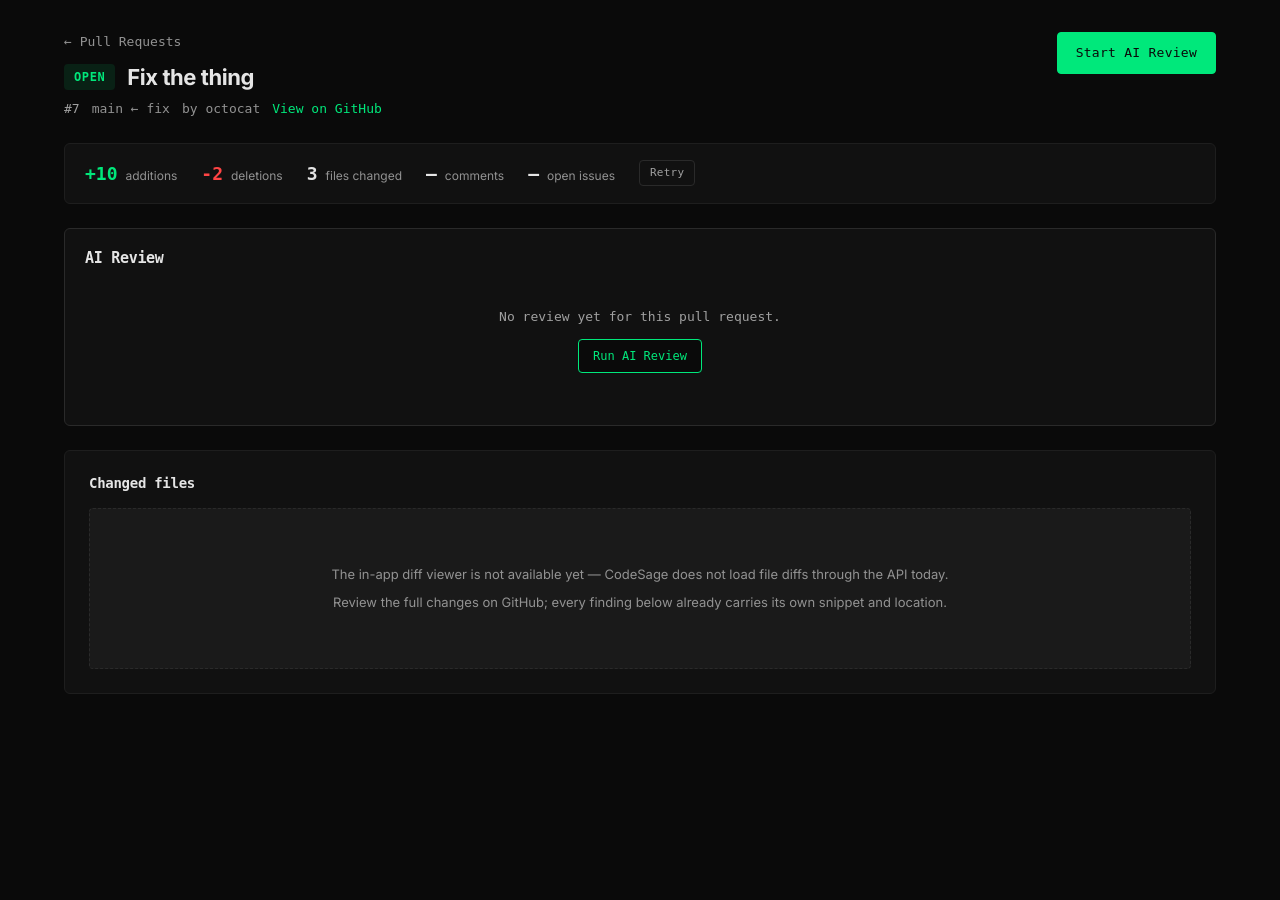
PrDetailComponent — load error state (F3 pre-check b) › a failed review request keeps the PR page; tiles show — + retry (never 0)
Click the button with test id "stats-retry": (667, 173) [639,160,695,186]
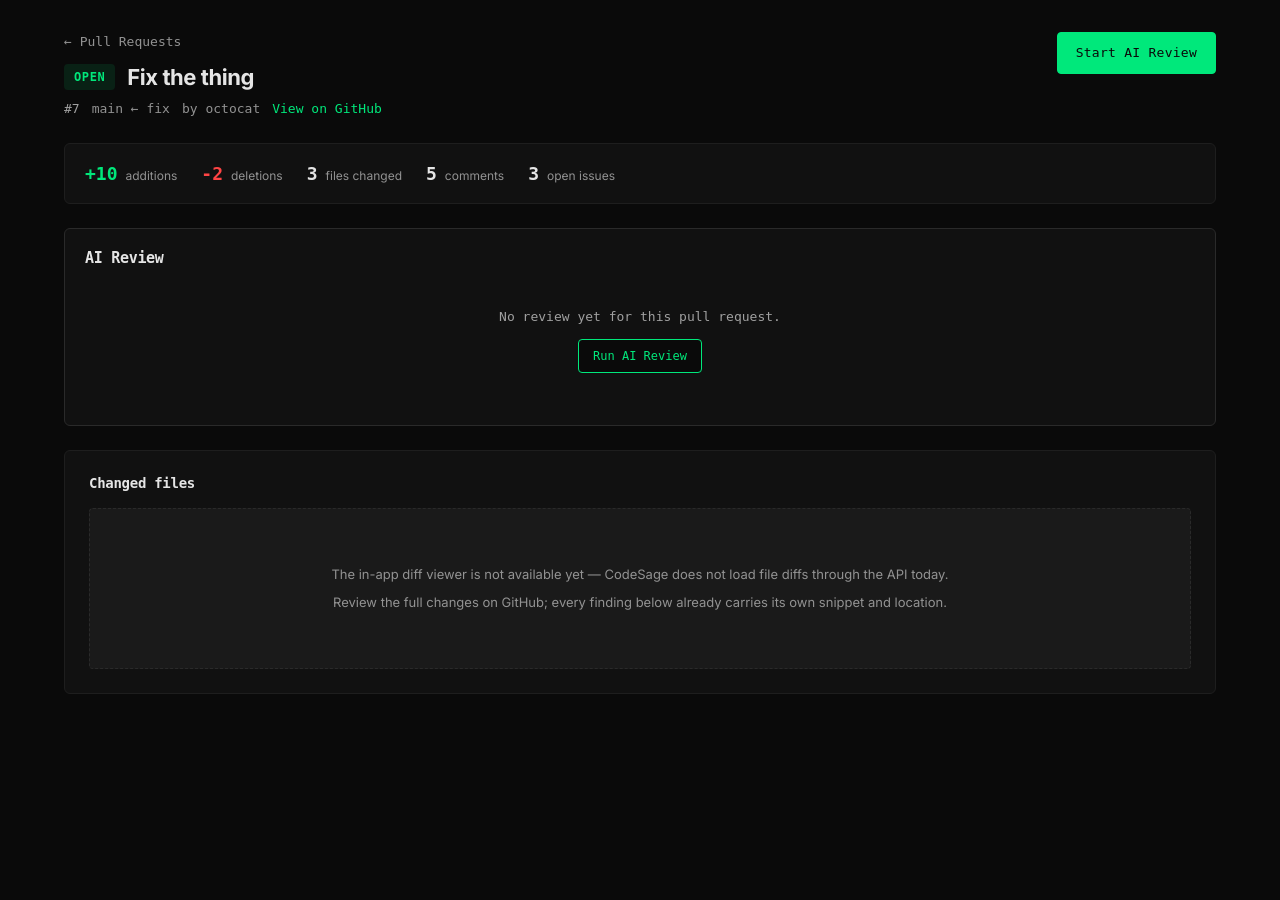
Check: the button with test id "stats-retry" is gone
